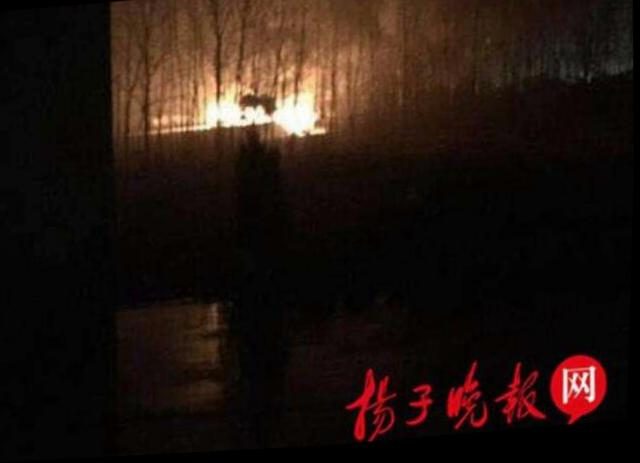fire: (204, 83, 329, 146)
